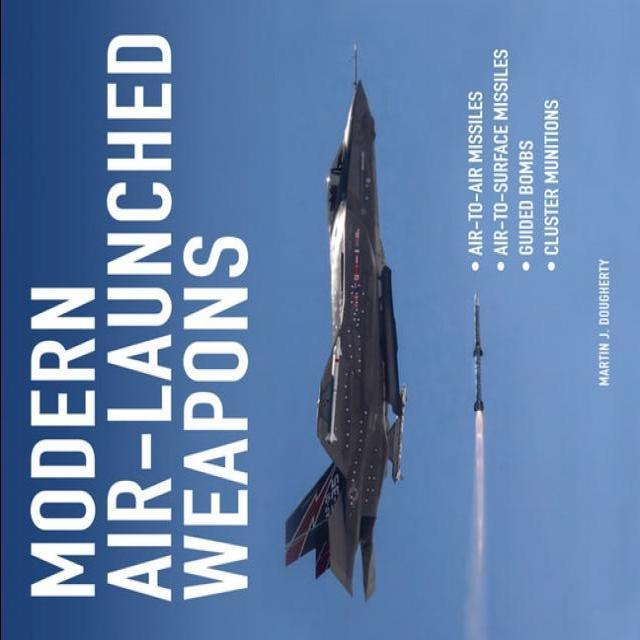missile: (456, 275, 492, 429)
